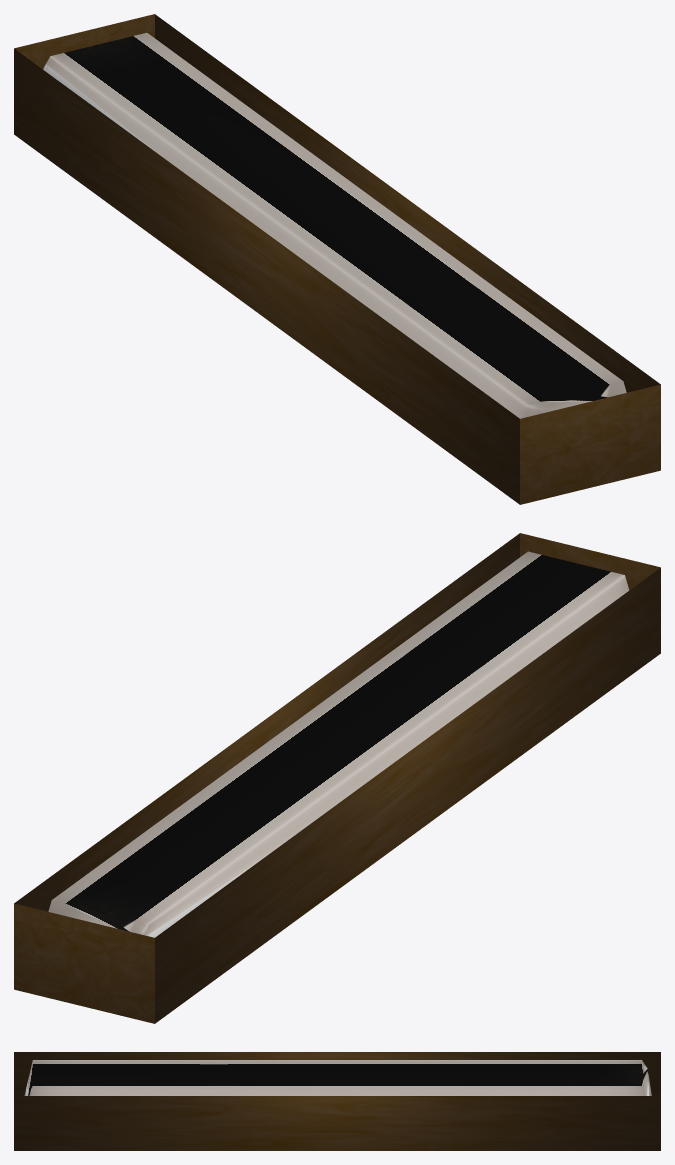
File: lamp.gltf
3 renders of one model, top to bottom at view 1: azimuth 30°, elevation 25°; view 2: azimuth 150°, elevation 25°; view 3: azimuth 270°, elevation 25°, orthographic. The views are drawn at different scales.
Parts seen in each view (by area): view 1: CeilingLamp_0; view 2: CeilingLamp_0; view 3: CeilingLamp_0.
Boxes of the visible parts, x1,y1,x2,y2 form: CeilingLamp_0: (14, 14, 660, 504); CeilingLamp_0: (14, 533, 660, 1023); CeilingLamp_0: (14, 1052, 660, 1150).
Size of the model in its own units: 0.2092 by 0.1222 by 1.3.
1 material, 1 textured.
